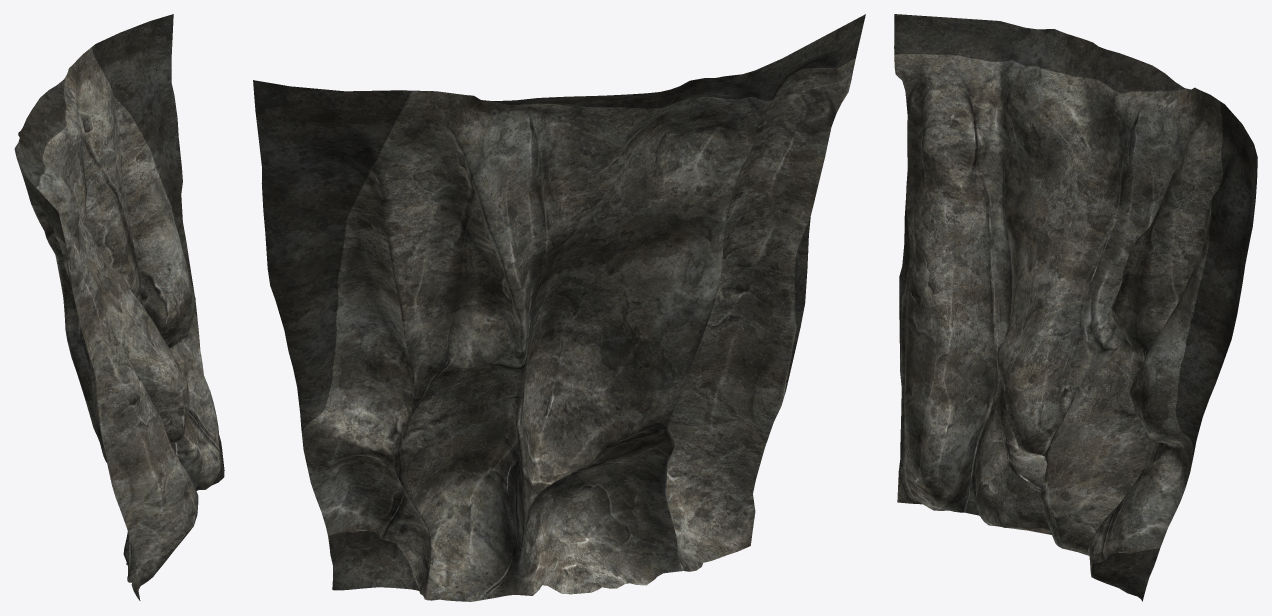
The model's file is cave_ravine_wall_03_concave.dae.
3 views of the same model, side by side, from view 1: azimuth 30°, elevation 25°; view 2: azimuth 150°, elevation 25°; view 3: azimuth 270°, elevation 25° (orthographic). The views are drawn at different scales.
Parts seen in each view (by area): view 1: wall_3_concave; view 2: wall_3_concave; view 3: wall_3_concave.
Part boxes in pixels (x1=…): wall_3_concave: x1=14, y1=14, x2=224, y2=600; wall_3_concave: x1=253, y1=14, x2=865, y2=601; wall_3_concave: x1=894, y1=14, x2=1257, y2=601.
Size of what is drawn, in the model's own units: 3.07 by 4.39 by 3.16.
